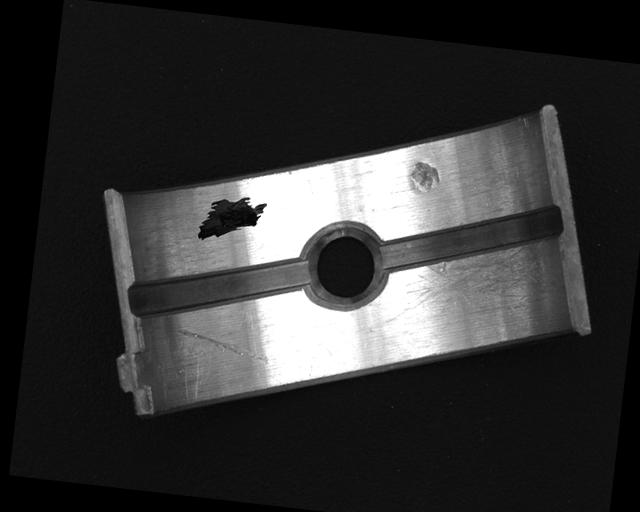blot: (196, 190, 269, 249)
bruise: (405, 159, 442, 198)
gap: (377, 188, 565, 291), (128, 239, 314, 336)
hole: (300, 223, 389, 311)
nick: (173, 326, 272, 365)
scratch: (385, 231, 565, 344)
